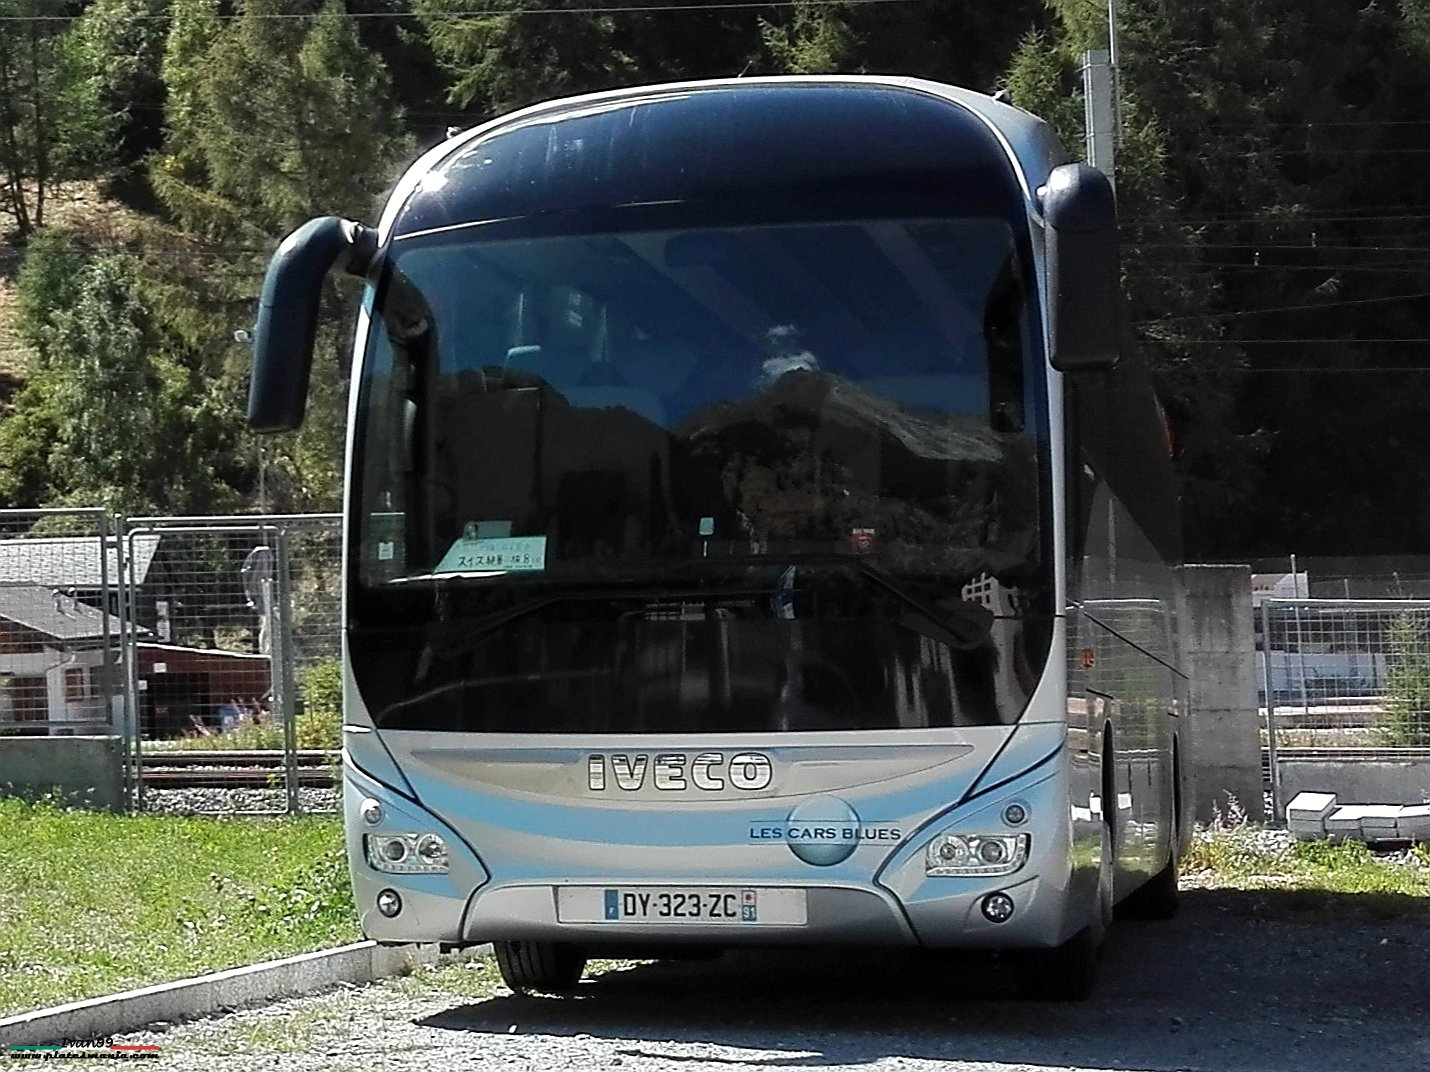licence plate: (600, 886, 761, 924)
